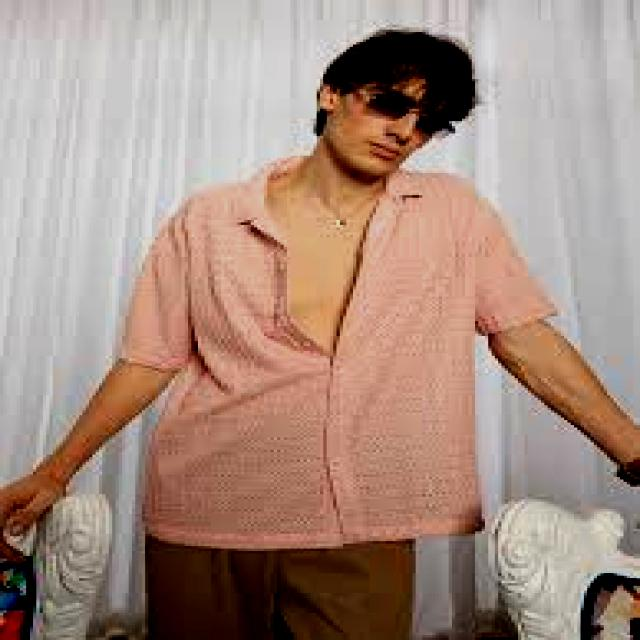face: (320, 85, 432, 180)
lower-wear: (146, 537, 415, 639)
top-wear: (119, 156, 557, 548)
